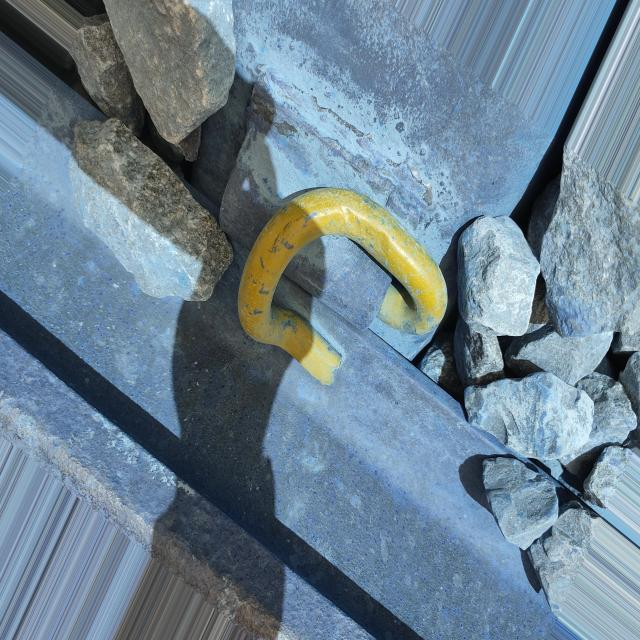Good Fasteners: (220, 64, 464, 384)
